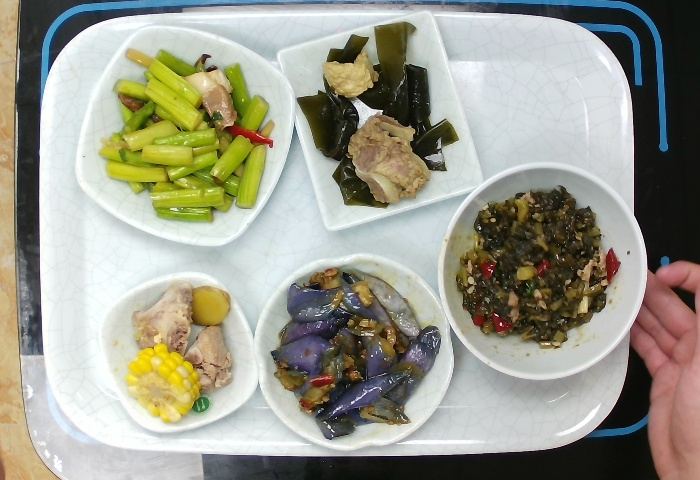JYsf-Ao_Yuan_Wan: (252, 255, 454, 449)
JYsf-Fan_Wan: (431, 163, 661, 390)
JYsf-Si_Fang_Die: (103, 265, 259, 433)
WCQzf-Da_Si_Fang_Die: (75, 27, 293, 248)
WCQzf-Ru_Ci_Si_Fang_Die: (281, 5, 483, 236)
